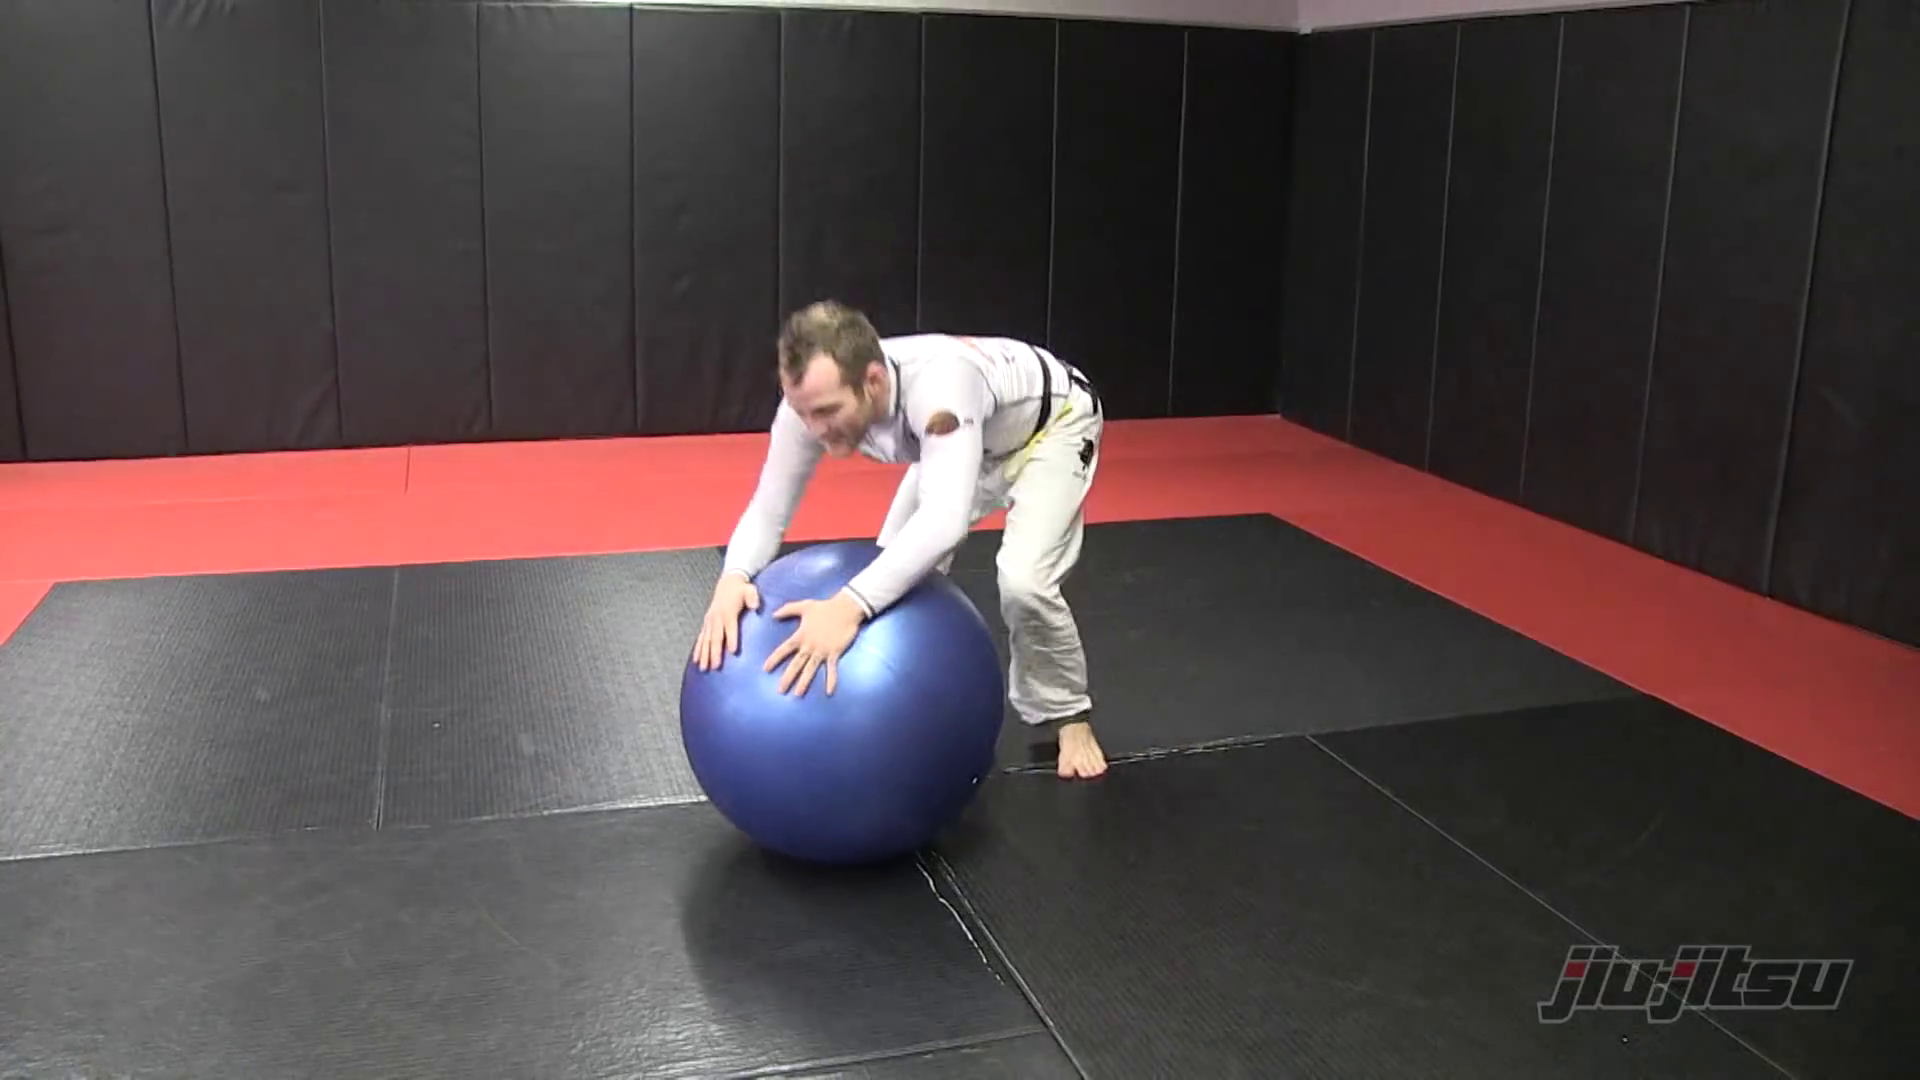yogaball: (670, 538, 1011, 860)
